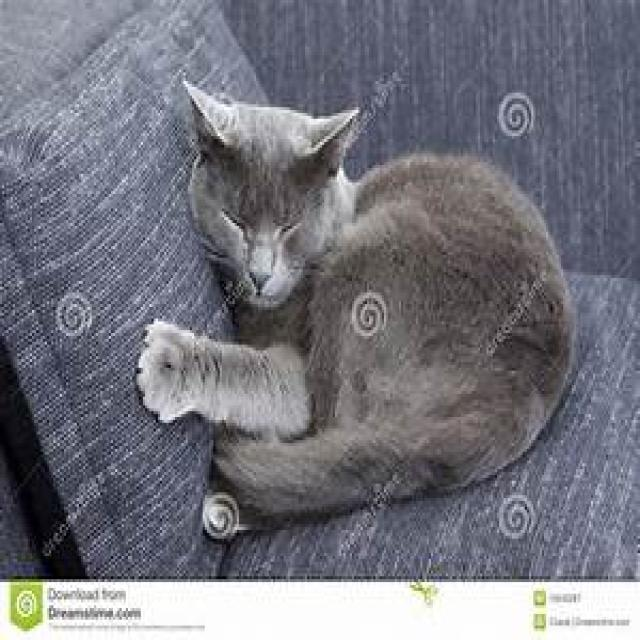animal: (134, 76, 574, 522)
